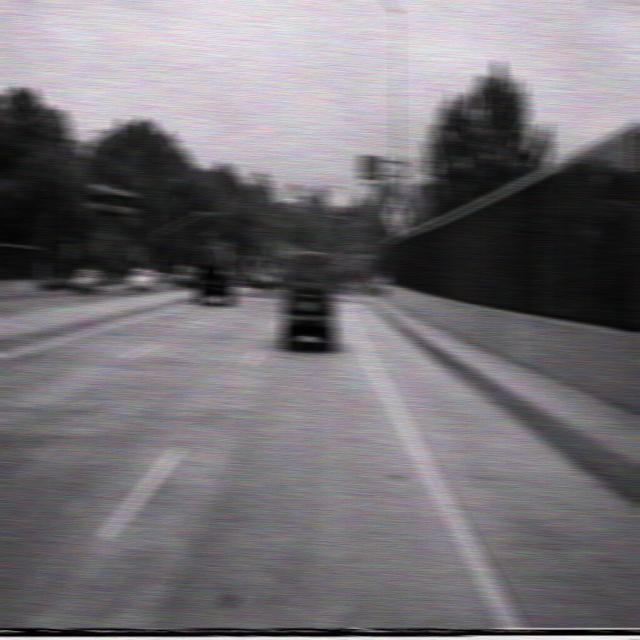pedestrianCrossing: (383, 192, 410, 238)
